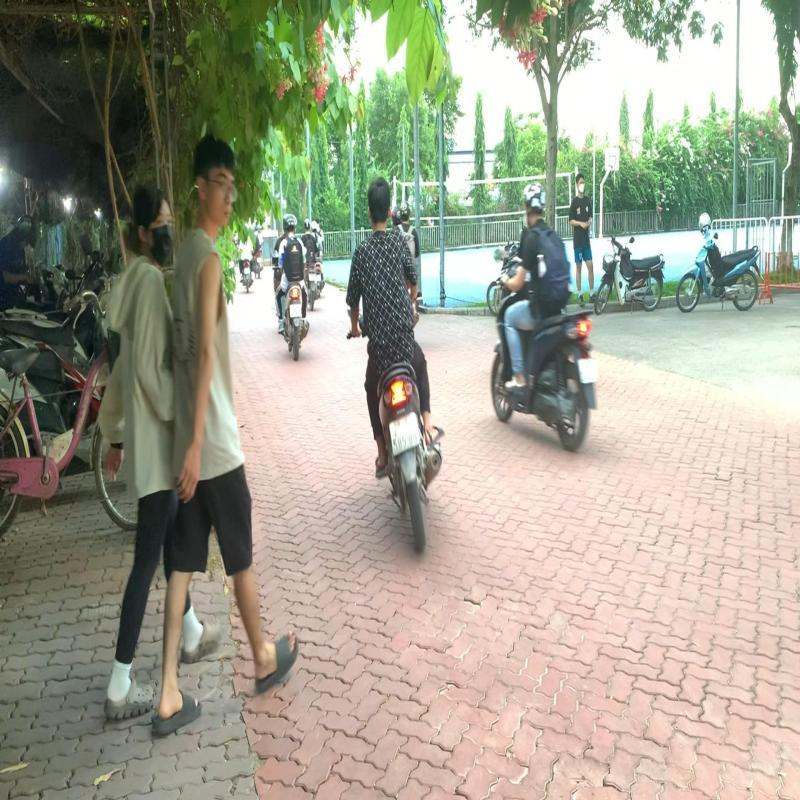nohelmet: (367, 172, 393, 226)
